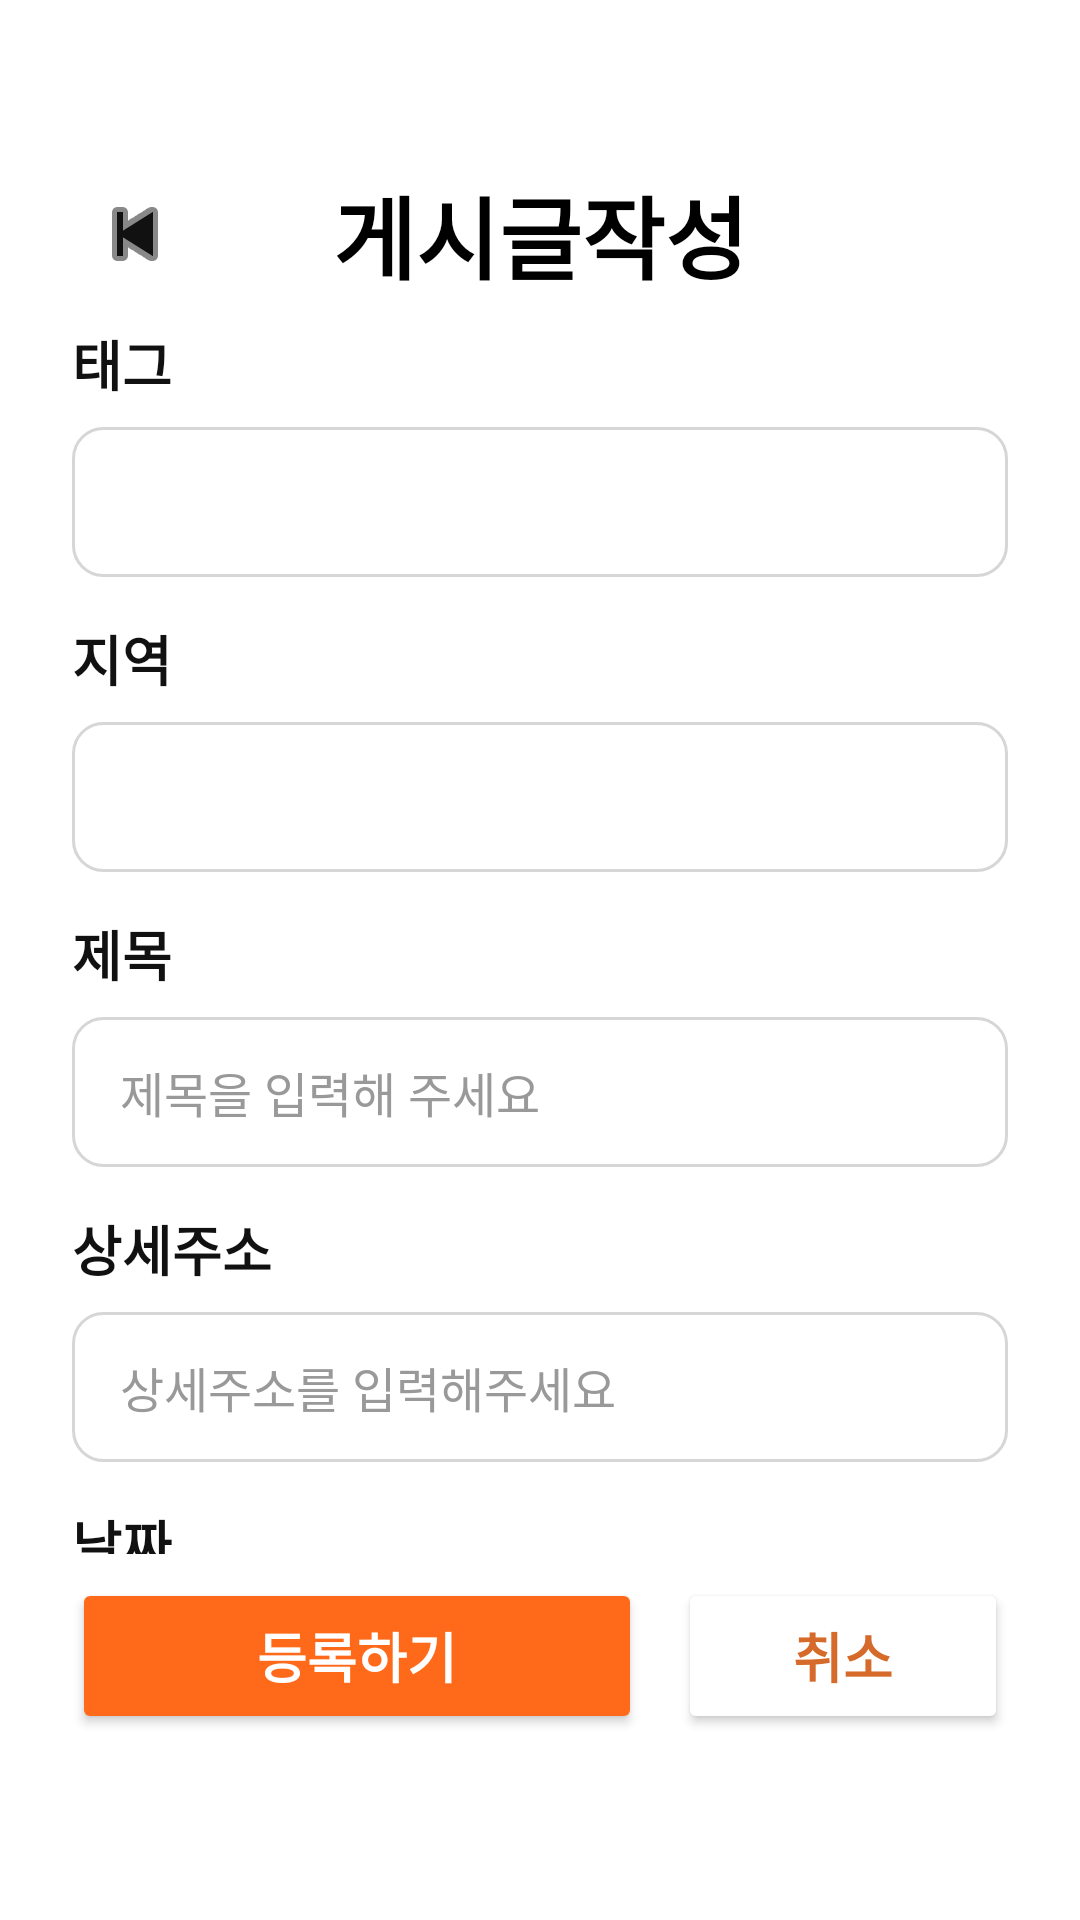

Locate icon controls on the screen. Image size 1080*1920, boxes as (x1, y1, x2, y2).
previous: (112, 207, 158, 261)
